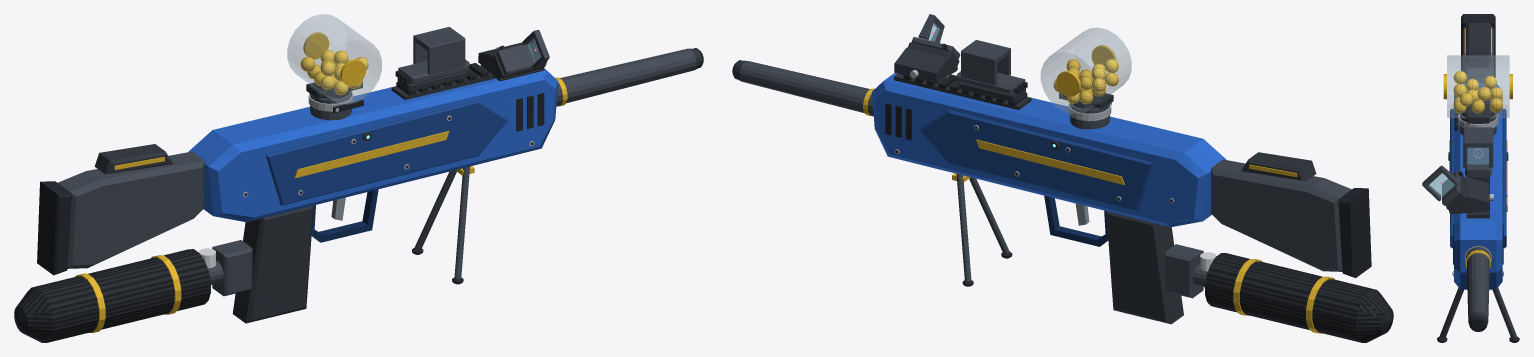
File: titan_factory_v2.glb
The picture shows the model from 3 angles, left to right: view 1: azimuth 30°, elevation 25°; view 2: azimuth 150°, elevation 25°; view 3: azimuth 270°, elevation 25°; orthographic projection. The views are drawn at different scales.
Parts seen in each view (by area): view 1: body, stock, tank, hopper_shell, barrel, sight_mesh, sight_canted_mesh, grip; view 2: body, stock, tank, hopper_shell, barrel, sight_mesh, sight_canted_mesh, grip; view 3: body, hopper_shell, stock, sight_canted_mesh, barrel, sight_mesh, grip, paintball_06, paintball_08, paintball_16, paintball_14, paintball_17 (+6 smaller).
Boxes of the visible parts, box(x1,y1,x2,y2) form: body: box(188, 63, 558, 323); stock: box(37, 144, 204, 275); tank: box(14, 248, 223, 342); hopper_shell: box(287, 14, 381, 104); barrel: box(555, 48, 703, 106); sight_mesh: box(395, 27, 469, 91); sight_canted_mesh: box(478, 29, 549, 81); grip: box(412, 166, 474, 284); body: box(872, 73, 1226, 324); stock: box(1211, 152, 1371, 278); tank: box(1192, 252, 1393, 342); hopper_shell: box(1040, 27, 1131, 114); barrel: box(732, 60, 874, 116); sight_mesh: box(957, 40, 1027, 102); sight_canted_mesh: box(894, 14, 960, 82); grip: box(952, 173, 1012, 286); body: box(1447, 83, 1508, 289); hopper_shell: box(1443, 55, 1512, 123); stock: box(1461, 14, 1495, 82); sight_canted_mesh: box(1422, 165, 1493, 214); barrel: box(1465, 246, 1491, 331); sight_mesh: box(1463, 127, 1493, 182); grip: box(1437, 287, 1519, 342); paintball_06: box(1471, 100, 1484, 113); paintball_08: box(1489, 97, 1502, 111); paintball_16: box(1477, 87, 1490, 101); paintball_14: box(1459, 93, 1472, 106); paintball_17: box(1453, 70, 1466, 84).
Size of the model in its own units: 0.9025 by 0.3375 by 0.1238.
21 materials, 14 textured.
